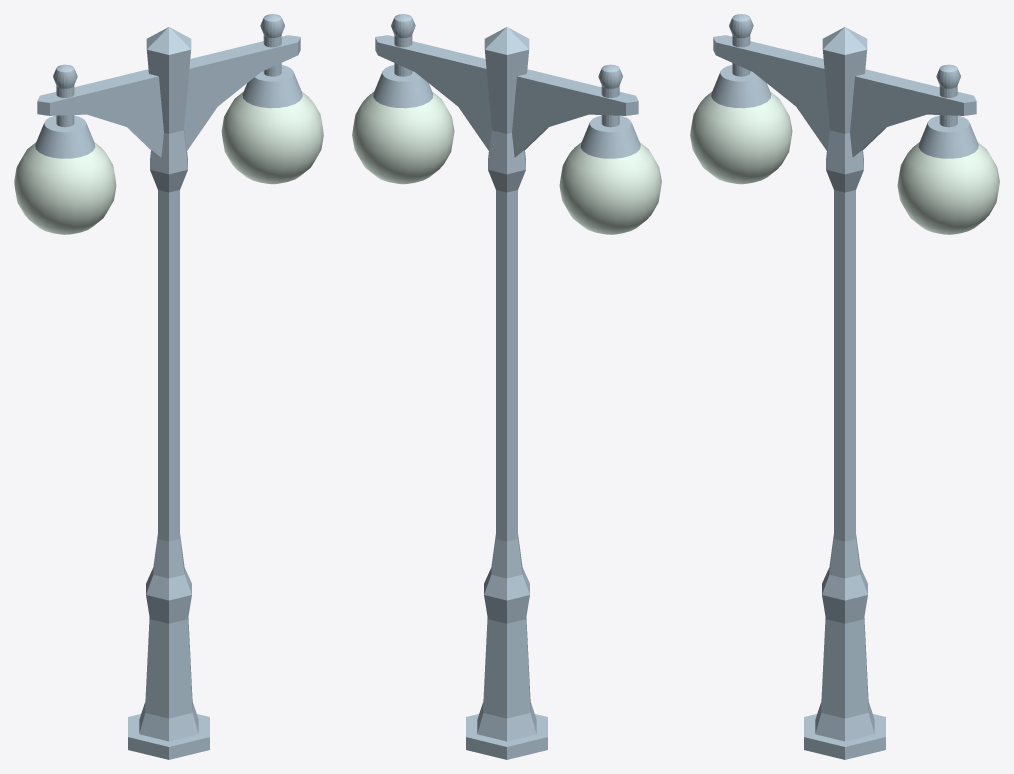
The model's file is streetlight_12.fbx.
3 views of the same model, side by side, from view 1: azimuth 30°, elevation 25°; view 2: azimuth 150°, elevation 25°; view 3: azimuth 330°, elevation 25° (orthographic).
Parts seen in each view (by area): view 1: streetlight_12, pSphere20 (×2), pPlane18, pPlane17; view 2: streetlight_12, pSphere20 (×2), pPlane18, pPlane17; view 3: streetlight_12, pSphere20 (×2), pPlane17, pPlane18.
Part boxes in pixels (x1,y1,x2,y2): streetlight_12: [128, 27, 209, 759]; pSphere20 (×2): [14, 14, 323, 234]; pPlane18: [37, 69, 163, 157]; pPlane17: [184, 35, 300, 150]; streetlight_12: [466, 27, 547, 759]; pSphere20 (×2): [352, 14, 661, 234]; pPlane18: [512, 69, 638, 157]; pPlane17: [375, 35, 491, 150]; streetlight_12: [804, 27, 885, 759]; pSphere20 (×2): [690, 14, 999, 234]; pPlane17: [850, 69, 976, 157]; pPlane18: [713, 35, 829, 150].
Size of the model in its own units: 2.95 by 6.78 by 0.8871.
